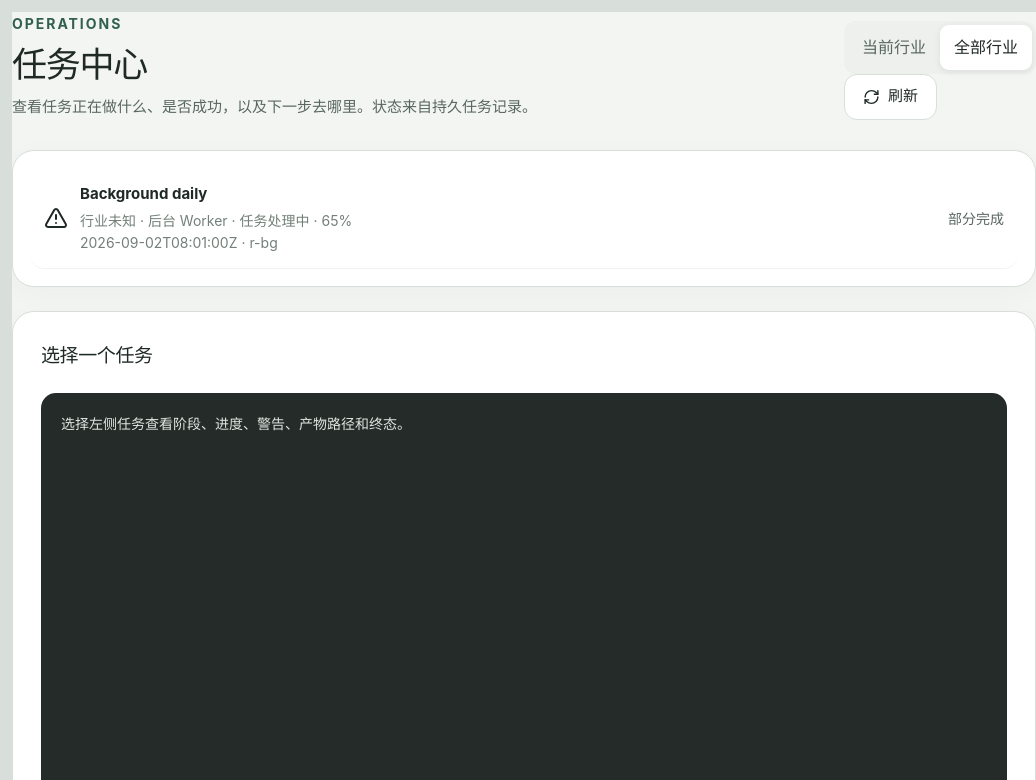
Test: critical workbench workflows › shows authoritative task provenance, window, provider and recovery metadata
Click the button "Background daily". click: x=144, y=193
box: 30,168 -> 1018,269
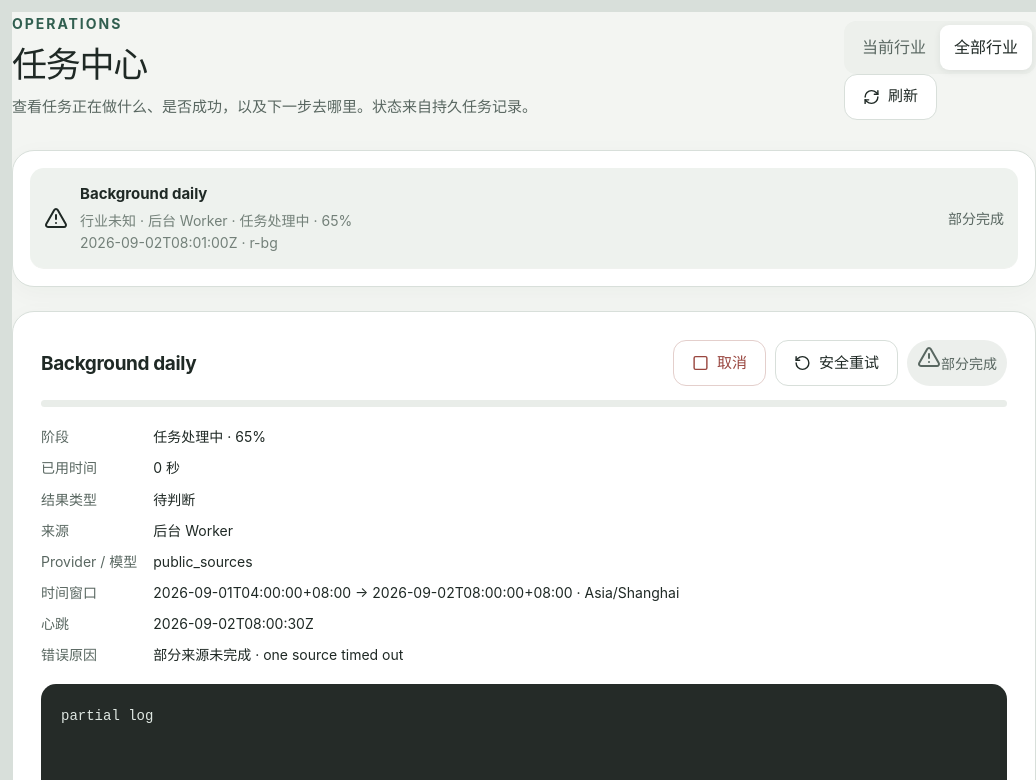
Expected: the text "后台 Worker" is shown, 153,522 -> 233,539
Expected: the text "public_sources" is shown, 153,553 -> 253,570
Expected: the text "2026-09-01T04:00:00" is shown, 153,584 -> 679,601
